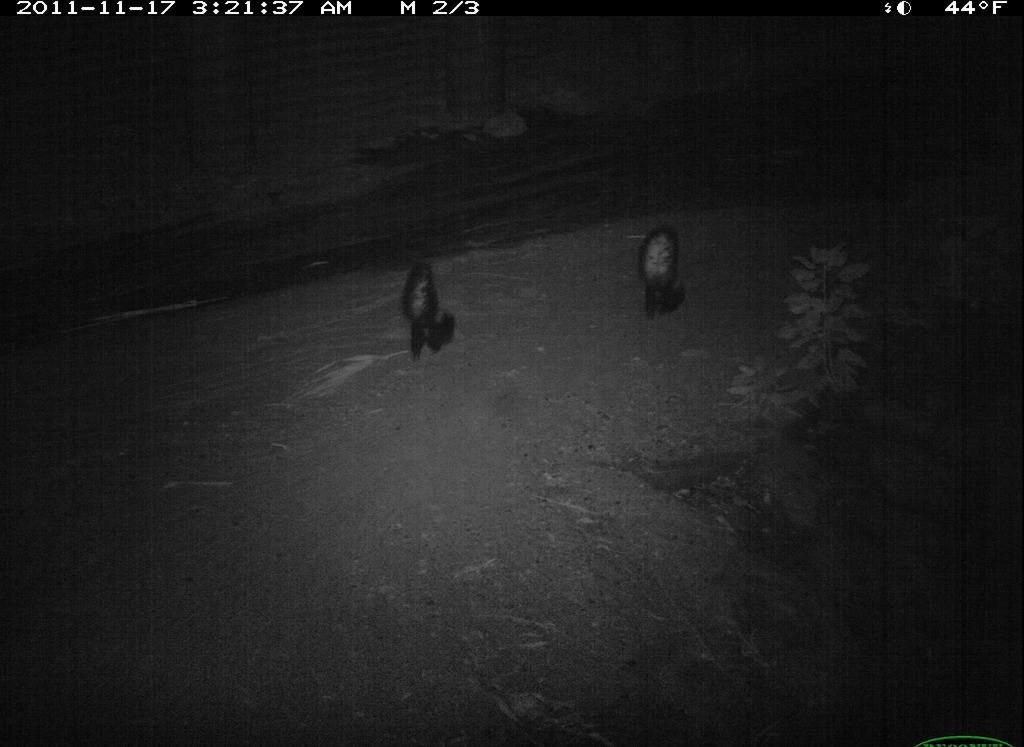skunk: (397, 254, 465, 370), (633, 222, 697, 332)
